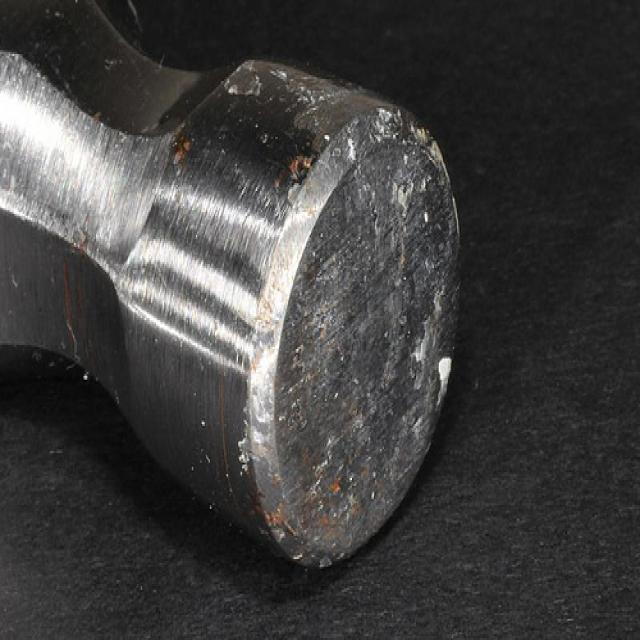hammer: (0, 0, 472, 615)
